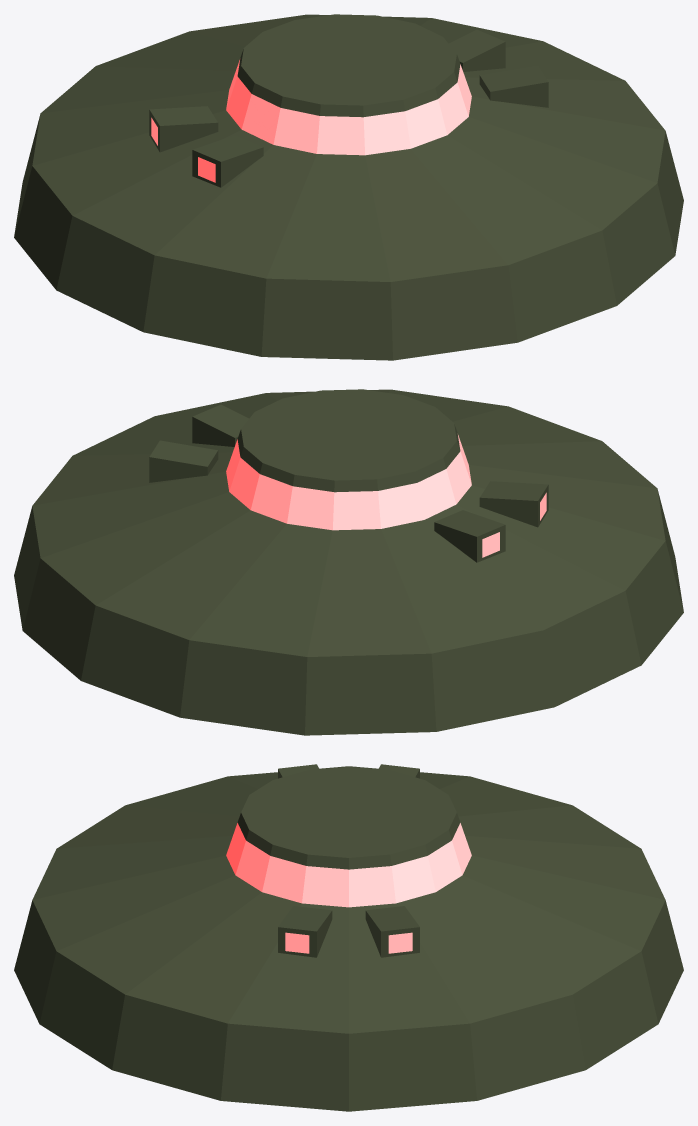
Rendered from MSbomb.fbx.
3 renders of one model, top to bottom at view 1: azimuth 30°, elevation 25°; view 2: azimuth 150°, elevation 25°; view 3: azimuth 270°, elevation 25°, orthographic.
Parts seen in each view (by area): view 1: Circle; view 2: Circle; view 3: Circle.
Part boxes in pixels (<box>): Circle: <box>14,14,683,360</box>; Circle: <box>14,389,683,735</box>; Circle: <box>14,764,683,1111</box>.
Bounding box in the file's own units: 206 × 53.51 × 206.
